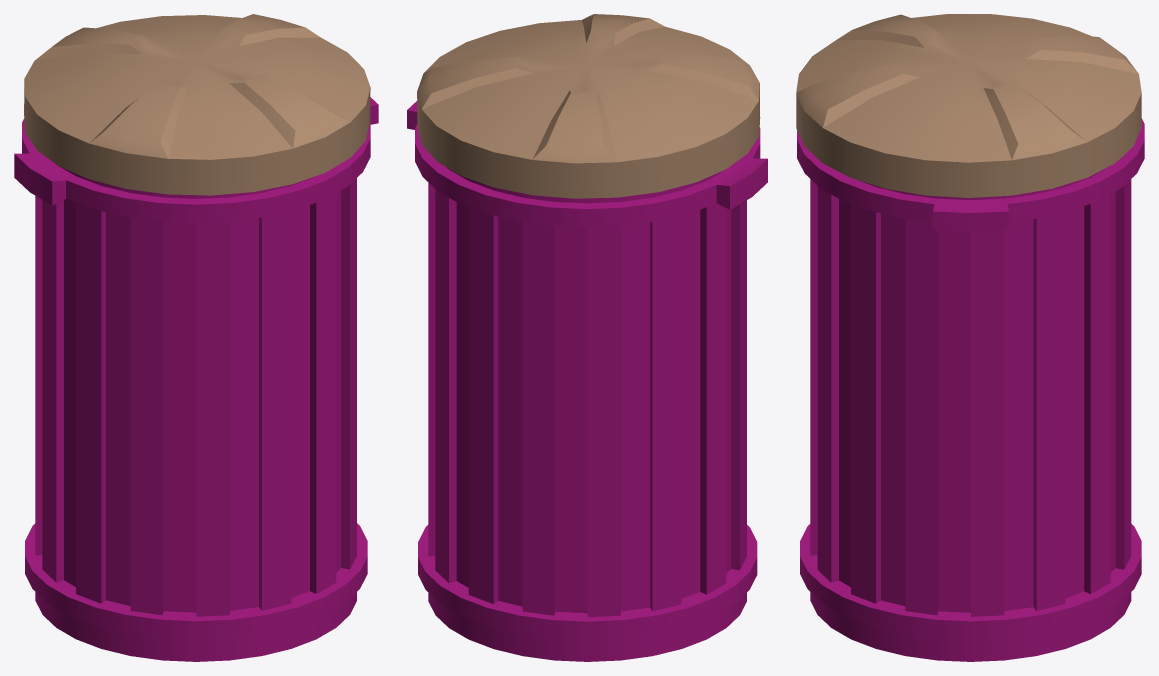
The model's file is Trash Can.fbx.
The picture shows the model from 3 angles, left to right: view 1: azimuth 30°, elevation 25°; view 2: azimuth 150°, elevation 25°; view 3: azimuth 270°, elevation 25°; orthographic projection.
Visible parts, largest first — view 1: Trash_can; view 2: Trash_can; view 3: Trash_can.
Boxes of the visible parts, bbox=[...] form: Trash_can: bbox=[14, 14, 378, 661]; Trash_can: bbox=[407, 14, 767, 661]; Trash_can: bbox=[796, 14, 1144, 661].
Bounding box in the file's own units: 7.13 × 10.99 × 6.48.
